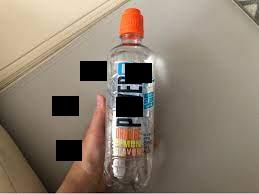powerO2_orange: (106, 4, 155, 190)
